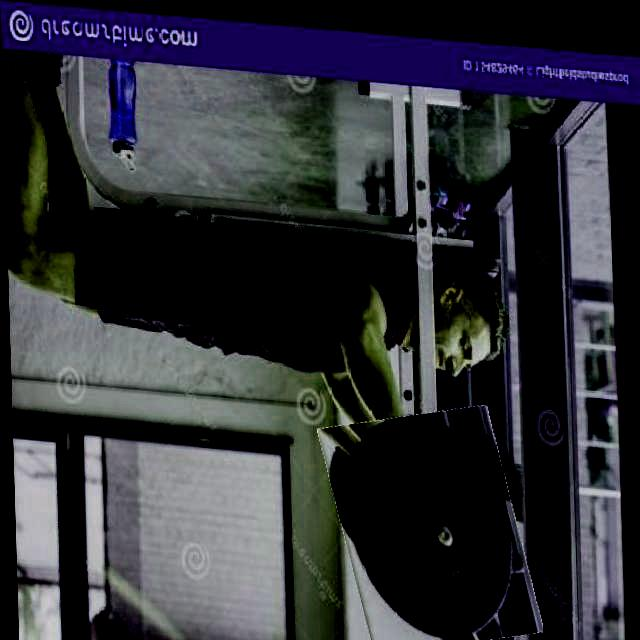barbell: (325, 394, 530, 640)
